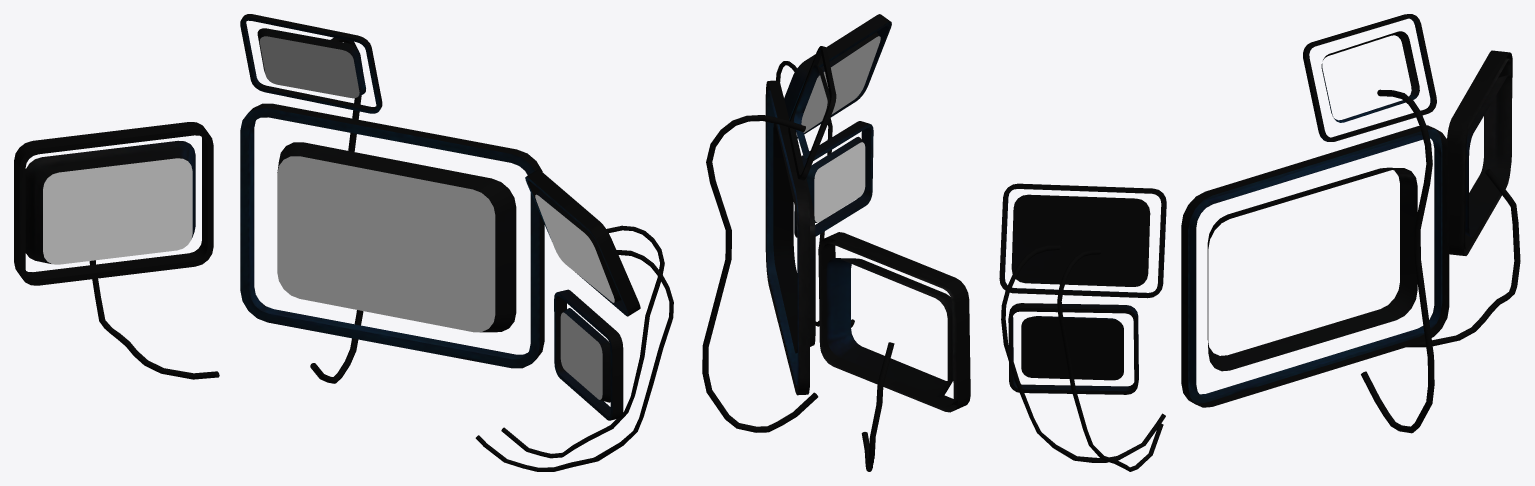
The model's file is SCREENS.glb.
3 views of the same model, side by side, from view 1: azimuth 30°, elevation 25°; view 2: azimuth 150°, elevation 25°; view 3: azimuth 270°, elevation 25° (orthographic). The views are drawn at different scales.
Parts seen in each view (by area): view 1: PLATFORM_SCREENS, PLATFORM_STRUCTURE; view 2: PLATFORM_STRUCTURE, PLATFORM_SCREENS; view 3: PLATFORM_STRUCTURE.
Boxes of the visible parts, x1,y1,x2,y2 form: PLATFORM_SCREENS: (43,36,614,399); PLATFORM_STRUCTURE: (14,14,673,471); PLATFORM_STRUCTURE: (702,14,970,471); PLATFORM_SCREENS: (796,36,880,222); PLATFORM_STRUCTURE: (999,14,1520,471).
Bounding box in the file's own units: 4.06 × 3.5 × 4.37.
1 material, 1 textured.
